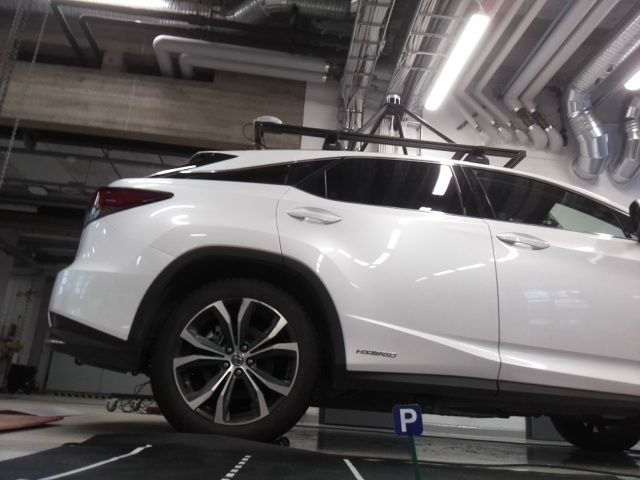Parking: (393, 406, 419, 435)
